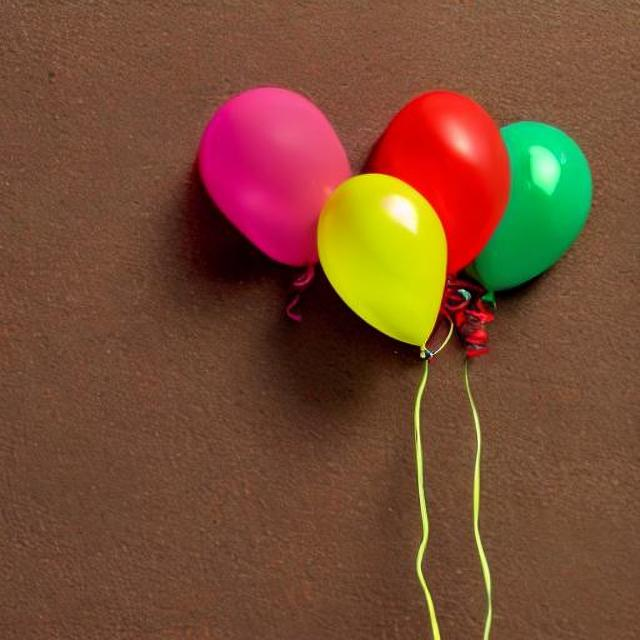balloon: (178, 79, 601, 366)
